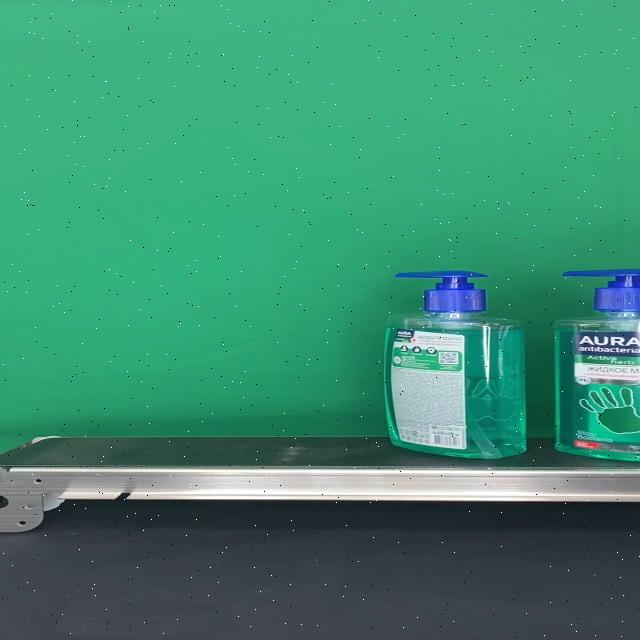Bottle: (382, 271, 526, 458)
Cap: (394, 270, 487, 312)
